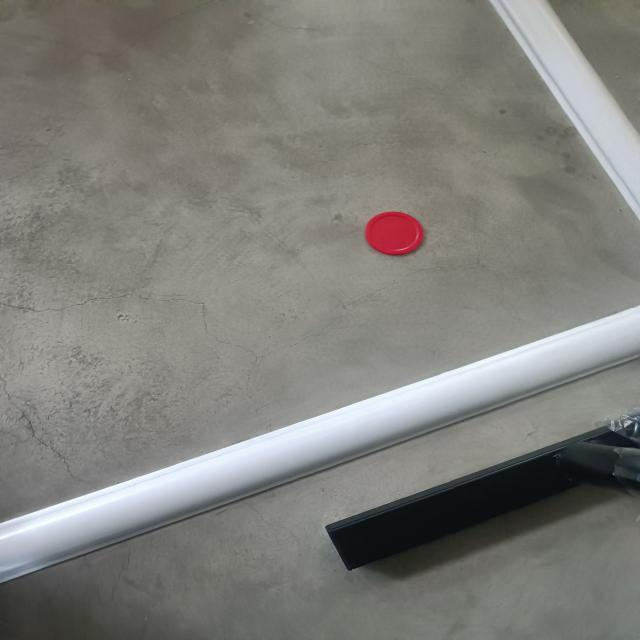chip: (362, 210, 426, 256)
